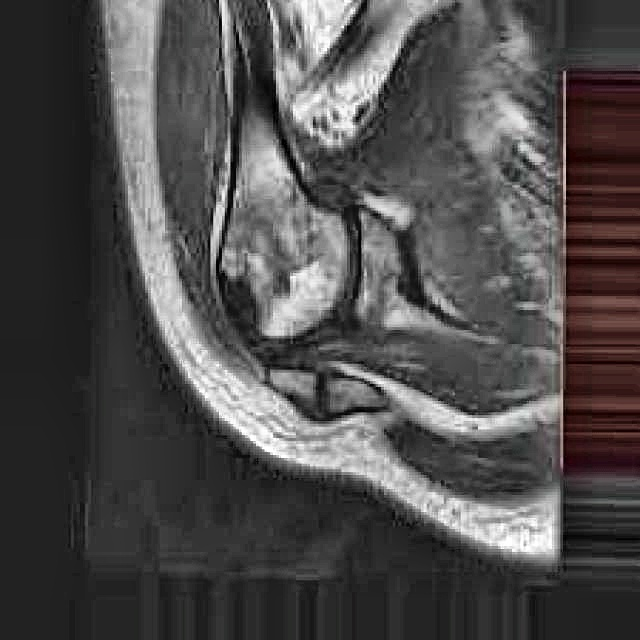Comminuted: (207, 268, 288, 364)
